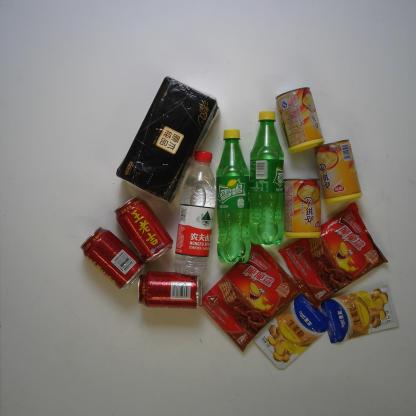Canned Food: (272, 83, 330, 157), (310, 138, 364, 204), (283, 175, 326, 245)
Dessert: (274, 195, 395, 304), (204, 243, 305, 352)
Drink: (246, 110, 297, 249), (214, 122, 262, 268), (172, 145, 221, 278), (112, 193, 176, 264), (81, 224, 144, 292), (135, 268, 211, 312)
Seasoner: (320, 280, 405, 352), (252, 295, 330, 371)
Tissue: (118, 73, 222, 202)
